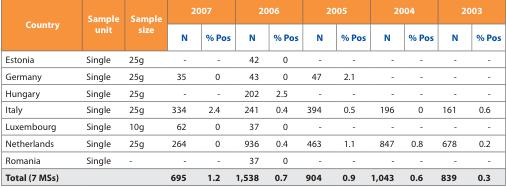table: (4, 3, 500, 182)
table column: (4, 3, 72, 182), (72, 3, 123, 182), (123, 3, 165, 182), (195, 3, 232, 182), (265, 3, 301, 182), (331, 3, 367, 182), (400, 3, 436, 182), (466, 3, 500, 182), (232, 3, 265, 182), (367, 3, 400, 182), (165, 3, 195, 182), (301, 3, 331, 182), (436, 3, 466, 182)
table column header: (4, 3, 500, 47)
table row: (4, 23, 500, 47), (4, 3, 500, 23), (4, 47, 500, 66), (4, 66, 500, 83), (4, 83, 500, 100), (4, 100, 500, 117), (4, 117, 500, 134), (4, 134, 500, 151), (4, 151, 500, 167), (4, 167, 500, 182)
table spanning cell: (4, 3, 72, 47), (72, 3, 123, 47), (123, 3, 165, 47), (232, 3, 301, 23), (367, 3, 436, 23), (165, 3, 232, 23), (301, 3, 367, 23), (436, 3, 500, 23)
